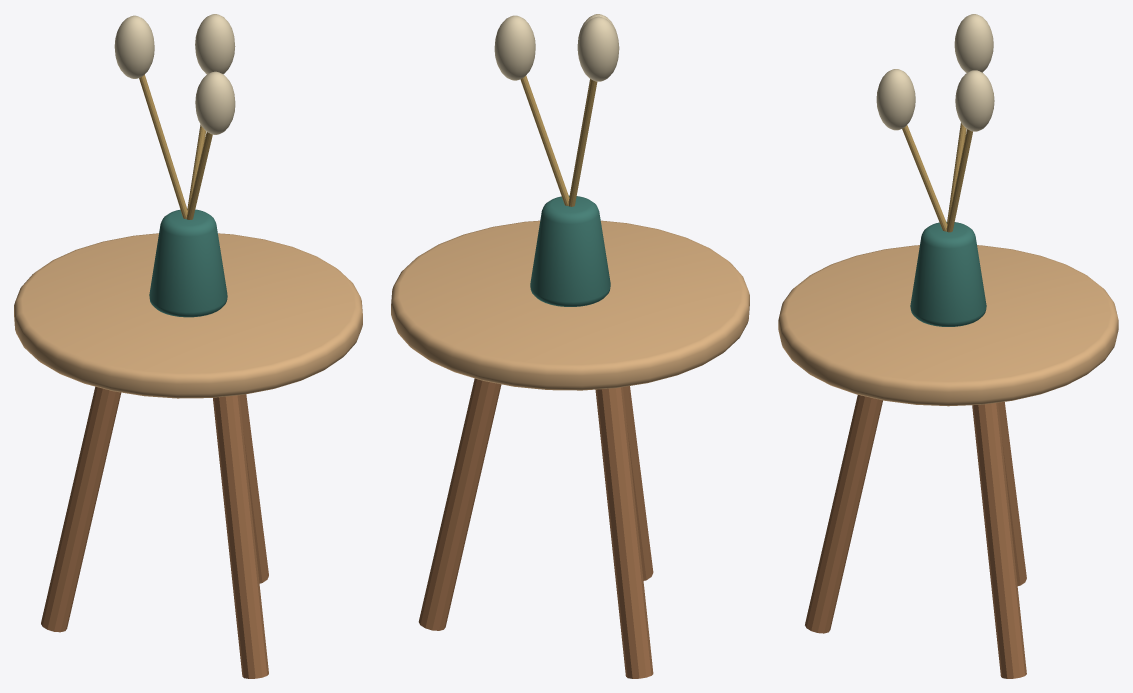
The model's file is side_table.glb.
3 renders of one model, left to right at view 1: azimuth 30°, elevation 25°; view 2: azimuth 150°, elevation 25°; view 3: azimuth 270°, elevation 25°, orthographic. The views are drawn at different scales.
Visible parts, largest first — view 1: Table top, Splayed leg.004, Stoneware vase, Splayed leg.006, Seed head, Seed head.002, Seed head.001, Splayed leg.005, Dried stem.002, Dried stem; view 2: Table top, Splayed leg.006, Stoneware vase, Splayed leg.005, Seed head.002, Seed head.001, Splayed leg.004, Dried stem.001, Dried stem.002; view 3: Table top, Splayed leg.005, Stoneware vase, Splayed leg.004, Seed head.001, Seed head, Seed head.002, Splayed leg.006, Dried stem, Dried stem.001.
Boxes of the visible parts, left/top/right/bottom form: Table top: left=14, top=233, right=362, bottom=398; Splayed leg.004: left=213, top=395, right=268, bottom=678; Stoneware vase: left=149, top=209, right=227, bottom=317; Splayed leg.006: left=41, top=386, right=121, bottom=632; Seed head: left=195, top=71, right=235, bottom=134; Seed head.002: left=114, top=15, right=154, bottom=78; Seed head.001: left=195, top=14, right=235, bottom=74; Splayed leg.005: left=239, top=394, right=268, bottom=583; Dried stem.002: left=139, top=74, right=187, bottom=218; Dried stem: left=186, top=132, right=212, bottom=219; Table top: left=391, top=220, right=749, bottom=390; Splayed leg.006: left=595, top=387, right=653, bottom=678; Stoneware vase: left=530, top=195, right=610, bottom=306; Splayed leg.005: left=418, top=378, right=501, bottom=630; Seed head.002: left=578, top=16, right=619, bottom=81; Seed head.001: left=494, top=15, right=535, bottom=80; Splayed leg.004: left=623, top=386, right=653, bottom=580; Dried stem.001: left=520, top=75, right=569, bottom=205; Dried stem.002: left=568, top=79, right=597, bottom=206; Table top: left=778, top=245, right=1118, bottom=406; Splayed leg.005: left=972, top=402, right=1026, bottom=678; Stoneware vase: left=910, top=221, right=986, bottom=326; Splayed leg.004: left=805, top=395, right=882, bottom=633; Seed head.001: left=955, top=70, right=994, bottom=131; Seed head: left=876, top=69, right=915, bottom=130; Seed head.002: left=954, top=14, right=993, bottom=72; Splayed leg.006: left=998, top=402, right=1026, bottom=585; Dried stem: left=902, top=125, right=947, bottom=231; Dried stem.001: left=946, top=129, right=972, bottom=232.
Bounding box in the file's own units: 0.52 × 1 × 0.52.
